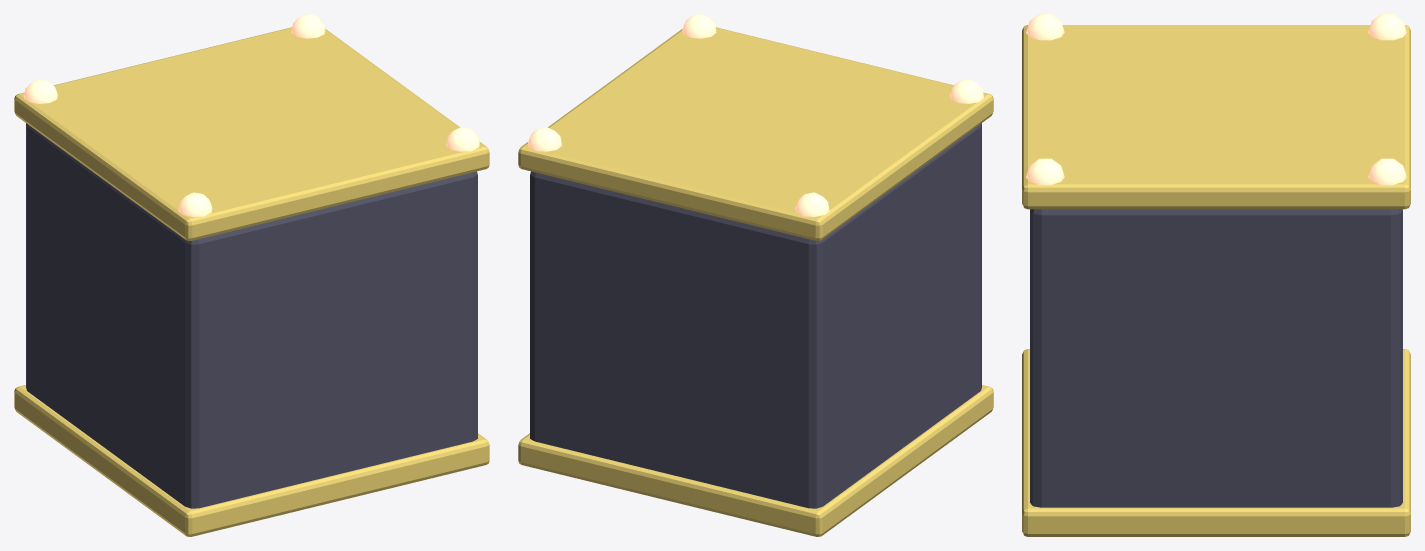
File: timer_housing.glb
3 views of the same model, side by side, from view 1: azimuth 30°, elevation 25°; view 2: azimuth 150°, elevation 25°; view 3: azimuth 270°, elevation 25° (orthographic). The views are drawn at different scales.
Parts seen in each view (by area): view 1: Cube, Cube.002, Cube.001, Icosphere.002, Icosphere.003, Icosphere, Icosphere.001; view 2: Cube, Cube.002, Cube.001, Icosphere.002, Icosphere.003, Icosphere, Icosphere.001; view 3: Cube, Cube.002, Cube.001, Icosphere.002, Icosphere.003, Icosphere, Icosphere.001.
Boxes of the visible parts, x1,y1,x2,y2 form: Cube: [26, 123, 477, 508]; Cube.002: [14, 27, 489, 240]; Cube.001: [14, 385, 489, 536]; Icosphere.002: [446, 127, 479, 151]; Icosphere.003: [291, 14, 325, 38]; Icosphere: [178, 192, 212, 216]; Icosphere.001: [24, 79, 57, 103]; Cube: [530, 123, 981, 508]; Cube.002: [518, 27, 993, 240]; Cube.001: [518, 385, 993, 536]; Icosphere.002: [682, 14, 716, 38]; Icosphere.003: [528, 127, 561, 151]; Icosphere: [950, 79, 983, 103]; Icosphere.001: [795, 192, 829, 216]; Cube: [1030, 209, 1402, 507]; Cube.002: [1022, 25, 1410, 209]; Cube.001: [1022, 349, 1410, 536]; Icosphere.002: [1026, 158, 1064, 185]; Icosphere.003: [1368, 158, 1406, 185]; Icosphere: [1026, 14, 1064, 40]; Icosphere.001: [1368, 14, 1406, 40].
Size of the model in its own units: 1 by 1.05 by 1.
